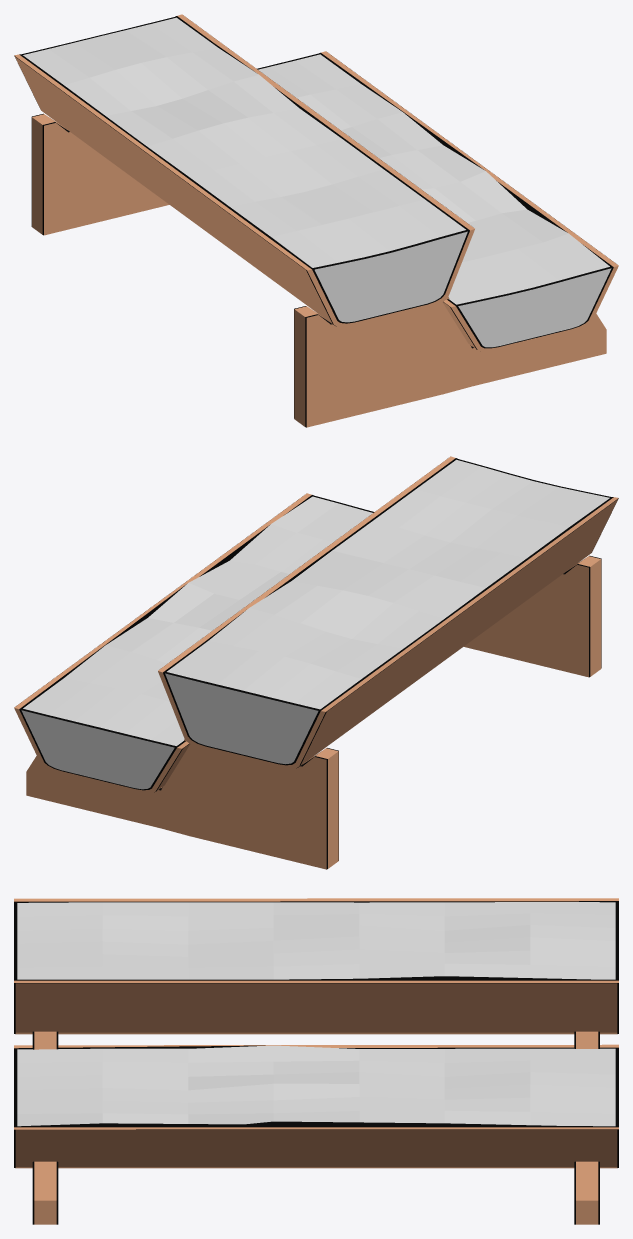
File: CardboardStairs01.fbx
The picture shows the model from 3 angles, top to bottom: view 1: azimuth 30°, elevation 25°; view 2: azimuth 150°, elevation 25°; view 3: azimuth 270°, elevation 25°; orthographic projection. The views are drawn at different scales.
Visible parts, largest first — view 1: Cube.060; view 2: Cube.060; view 3: Cube.060.
Part boxes in pixels (x1,y1,x2,y2): Cube.060: (14,14,618,427); Cube.060: (14,456,618,869); Cube.060: (14,898,618,1224).
Bounding box in the file's own units: 283 × 147 × 459.
